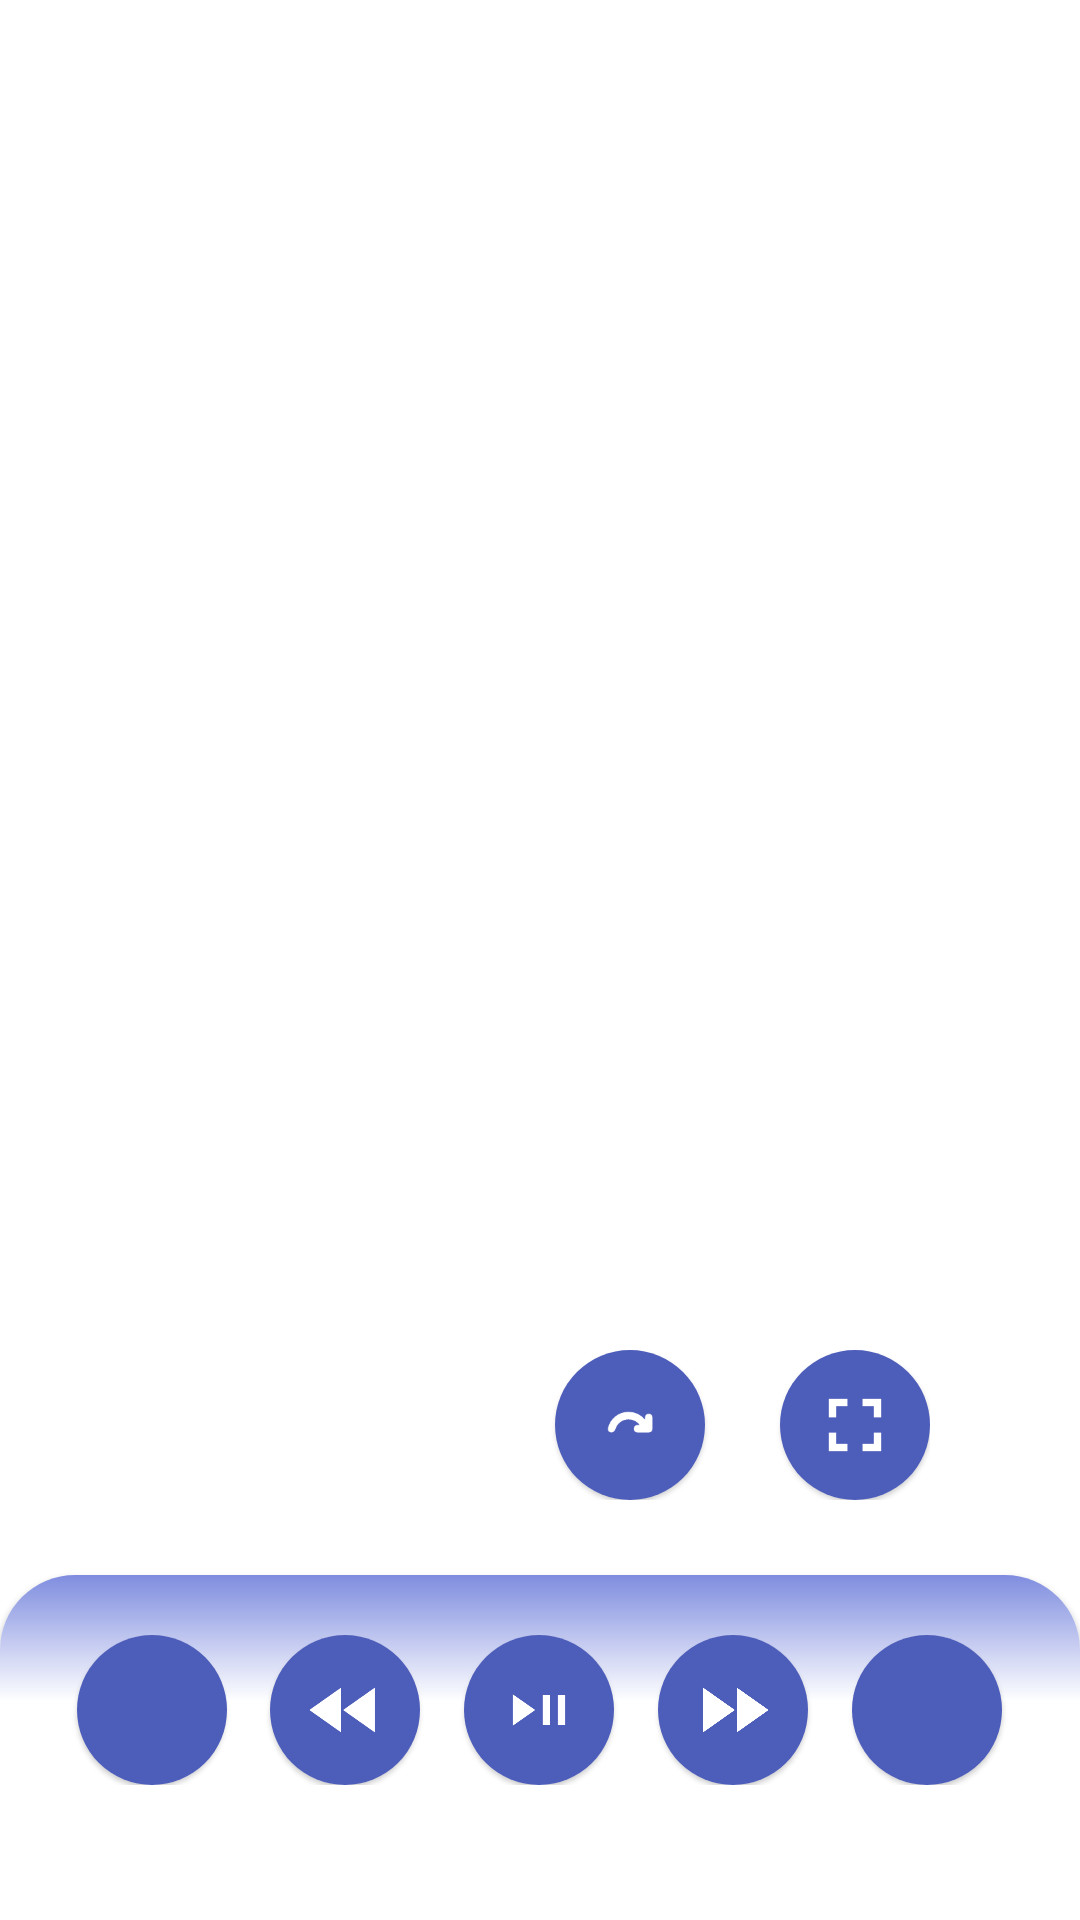

Point at icon controls on the screen. Image size 1080px x 1920px, points as [x,y].
fullscreen: [855,1425]
